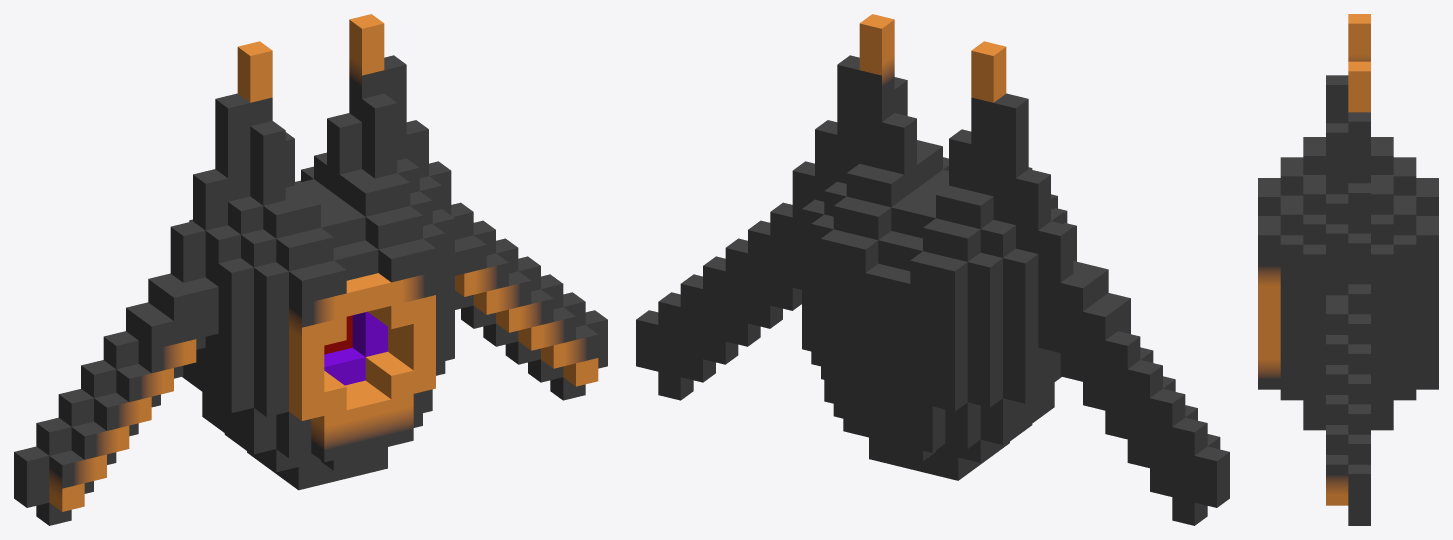
Rendered from NX-01 Nexus Warden.fbx.
3 renders of one model, left to right at view 1: azimuth 30°, elevation 25°; view 2: azimuth 150°, elevation 25°; view 3: azimuth 270°, elevation 25°, orthographic. The views are drawn at different scales.
Visible parts, largest first — view 1: Matrix; view 2: Matrix; view 3: Matrix.
Boxes of the visible parts, bbox=[...] form: Matrix: bbox=[14, 14, 607, 525]; Matrix: bbox=[636, 14, 1229, 525]; Matrix: bbox=[1258, 14, 1438, 525].
Bounding box in the file's own units: 26 × 18 × 8.
Materials: 1 (1 with a texture image).
